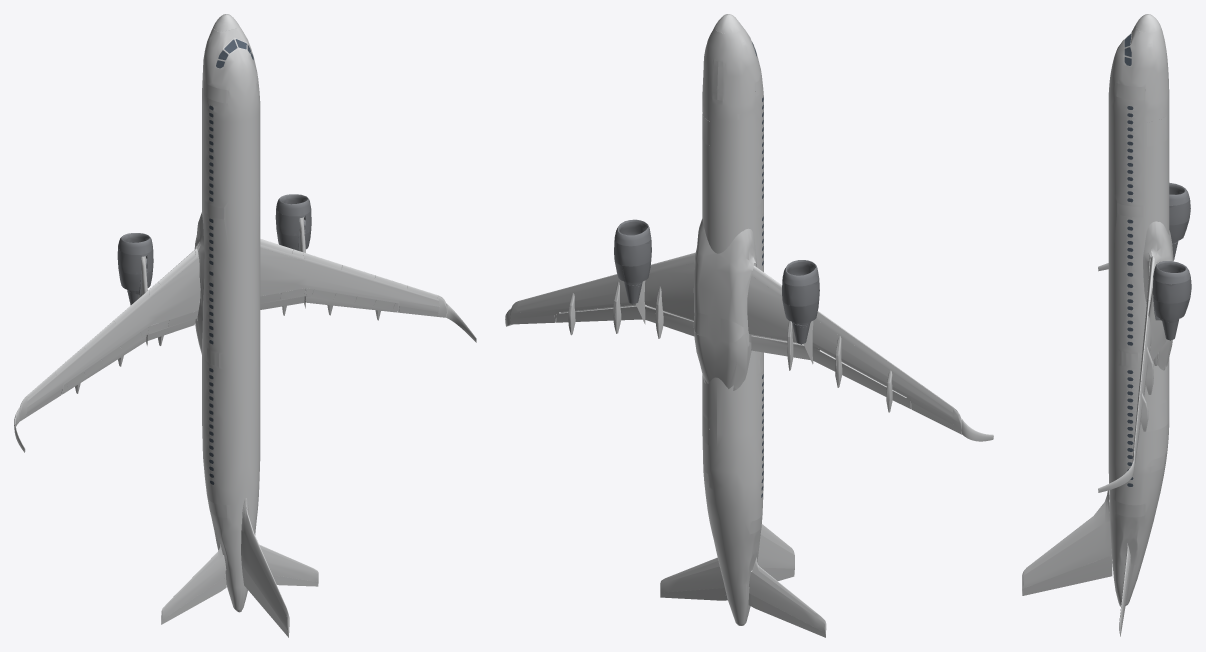
The picture shows the model from 3 angles, left to right: view 1: azimuth 30°, elevation 25°; view 2: azimuth 150°, elevation 25°; view 3: azimuth 270°, elevation 25°; orthographic projection. The views are drawn at different scales.
Parts seen in each view (by area): view 1: A21N; view 2: A21N; view 3: A21N.
Part boxes in pixels (x1,y1,x2,y2): A21N: [14, 14, 476, 637]; A21N: [505, 14, 993, 637]; A21N: [1022, 14, 1191, 636].
Size of the model in its own units: 35.87 by 44.51 by 11.56.
